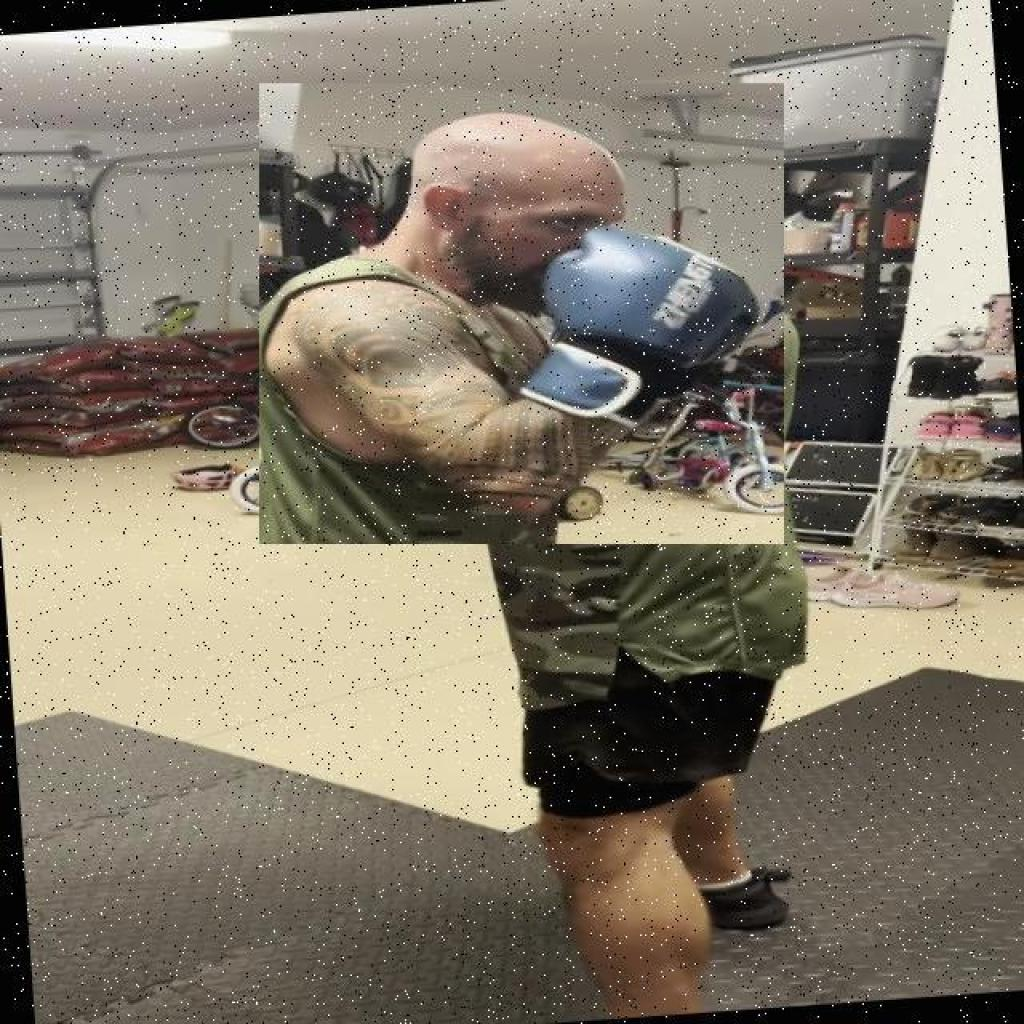no punch: (259, 83, 784, 545)
